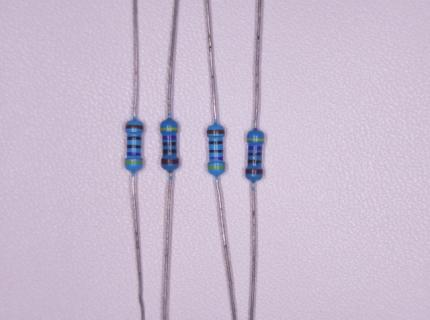Black band: (126, 144, 141, 149), (127, 136, 142, 141), (247, 159, 262, 164), (162, 142, 176, 147), (209, 141, 223, 145), (209, 149, 223, 153), (163, 149, 176, 153), (248, 153, 262, 156)
Brown band: (245, 168, 263, 175), (206, 129, 225, 135), (125, 124, 144, 130), (161, 159, 179, 165)
Violet band: (248, 145, 263, 151), (162, 135, 177, 140), (209, 157, 223, 161), (127, 152, 141, 156)
Yellow band: (124, 160, 143, 165), (207, 165, 226, 170), (246, 138, 265, 142), (160, 127, 178, 131)
